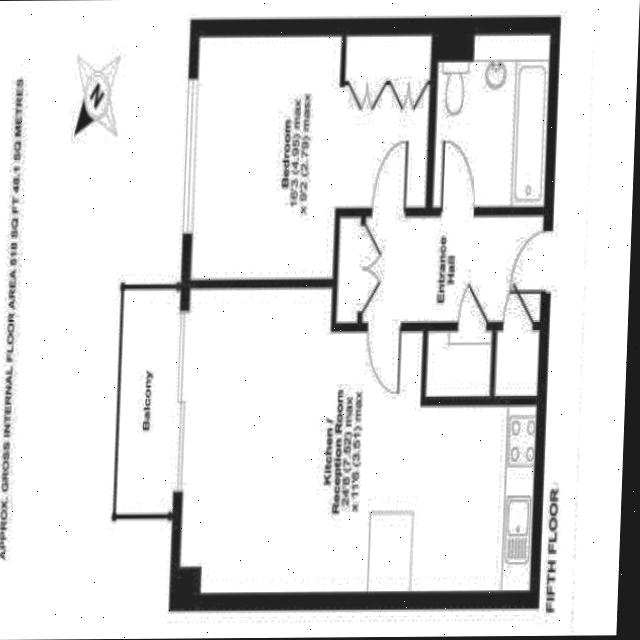room: (179, 283, 540, 607), (190, 26, 432, 287), (434, 31, 549, 210), (362, 215, 544, 320), (117, 288, 180, 514), (427, 329, 492, 398), (496, 328, 539, 397), (336, 216, 361, 322)
